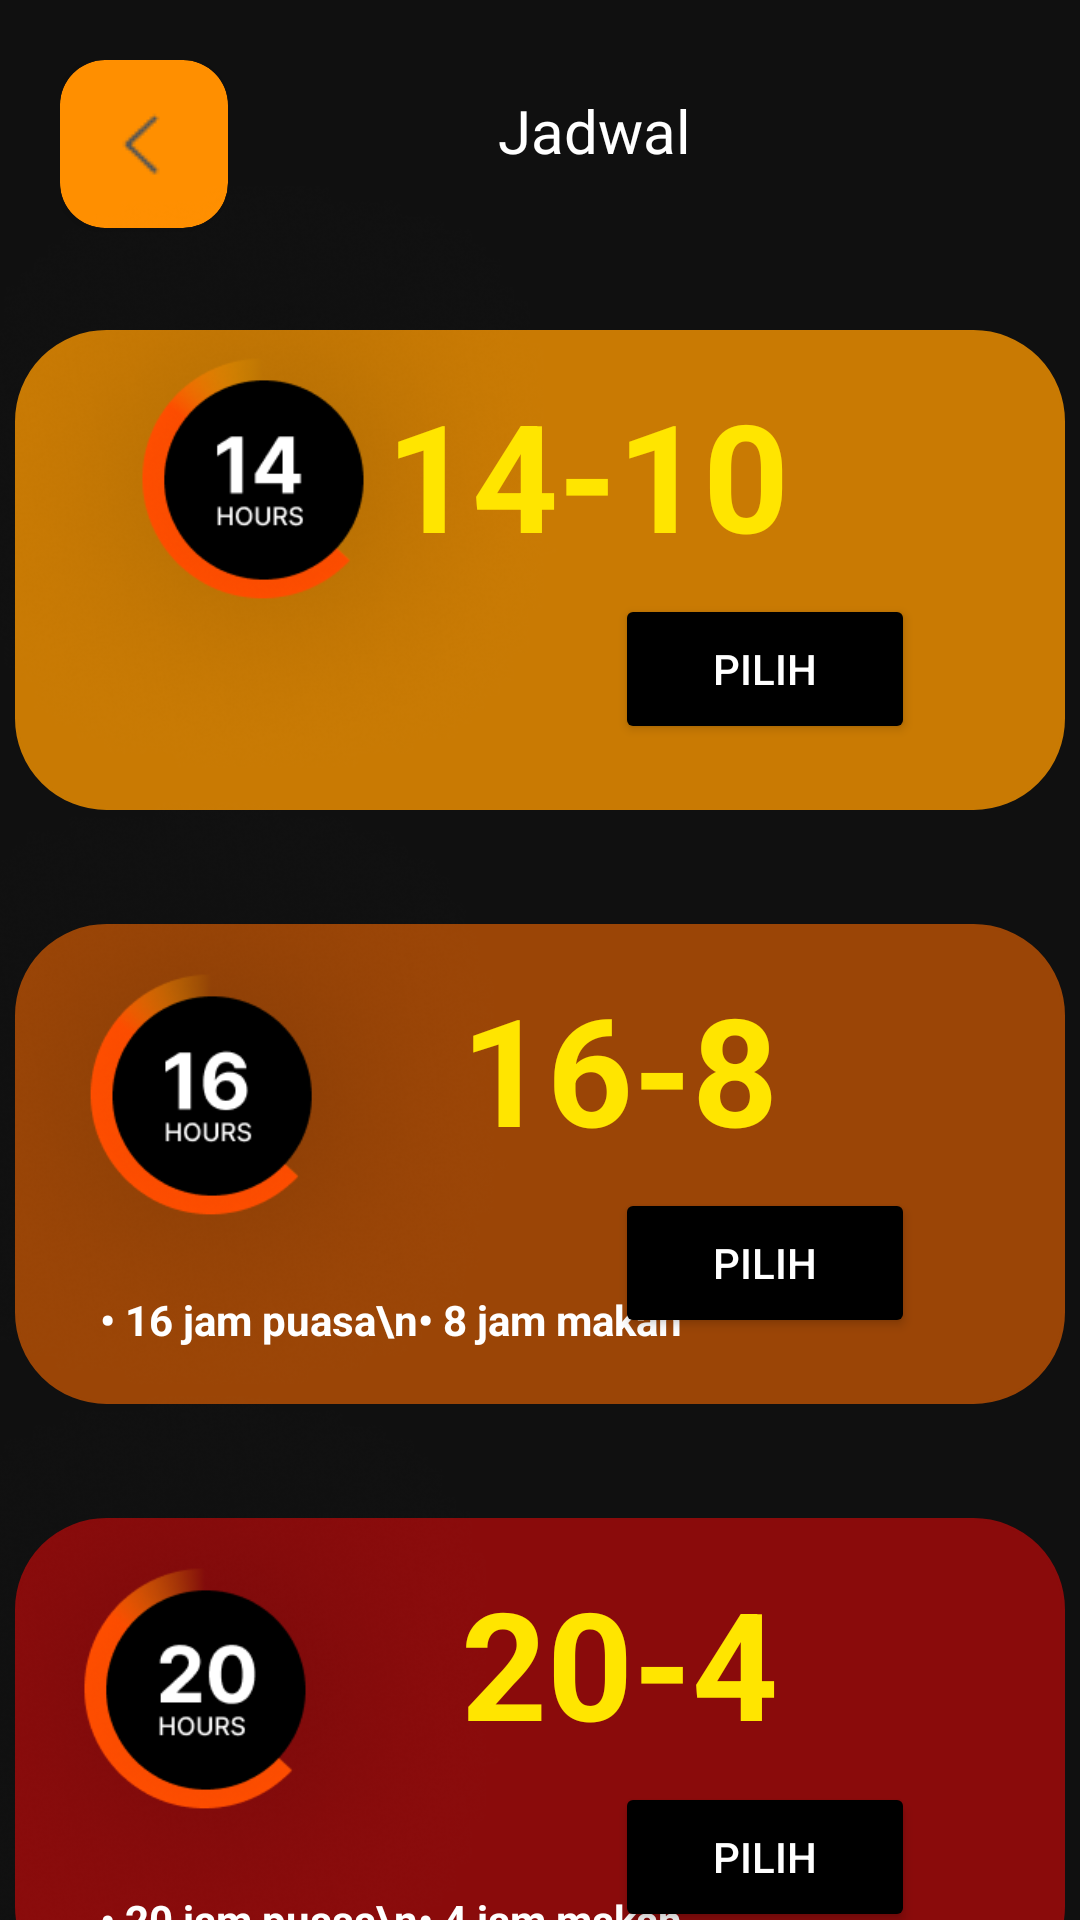

Icon click points for this 1080x1920 phone screenshot, format (x=x, y=y):
back arrow: (x=144, y=144)
